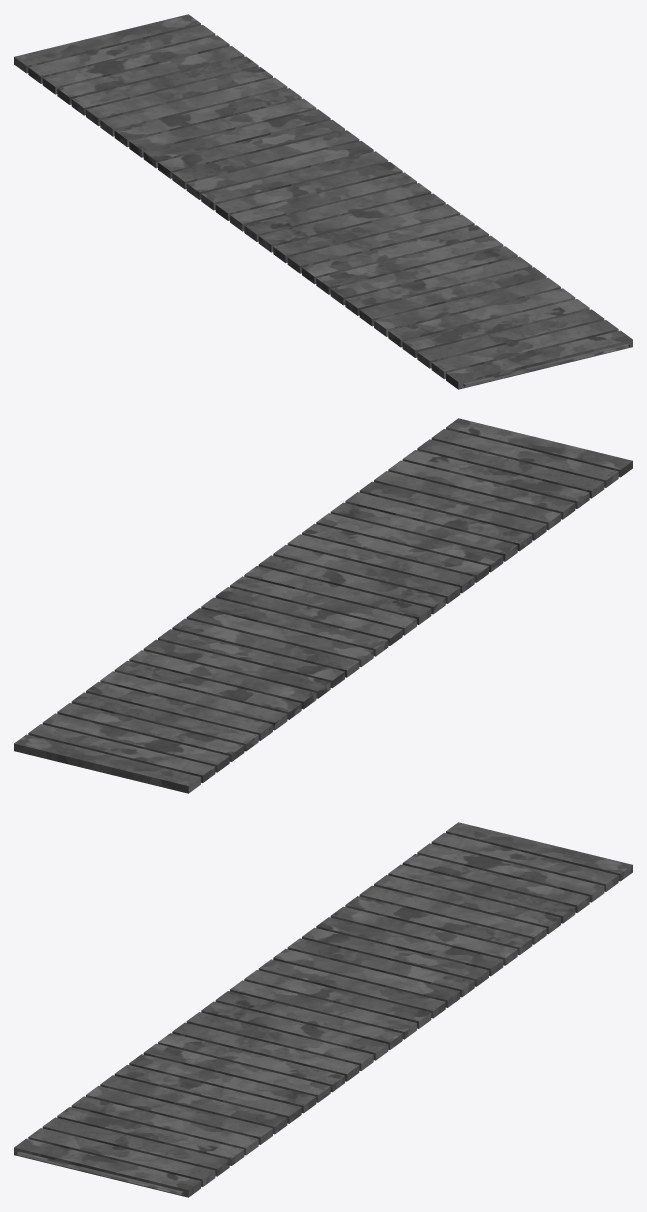
The model's file is Bridge.obj.
3 views of the same model, one above another, from view 1: azimuth 30°, elevation 25°; view 2: azimuth 150°, elevation 25°; view 3: azimuth 330°, elevation 25° (orthographic).
Parts seen in each view (by area): view 1: Bridge_Cube.009; view 2: Bridge_Cube.009; view 3: Bridge_Cube.009.
Part boxes in pixels (bbox=[...]): Bridge_Cube.009: bbox=[14, 14, 632, 389]; Bridge_Cube.009: bbox=[14, 418, 632, 793]; Bridge_Cube.009: bbox=[14, 822, 632, 1197].
Bounding box in the file's own units: 1.4 × 0.0588 × 6.2.
